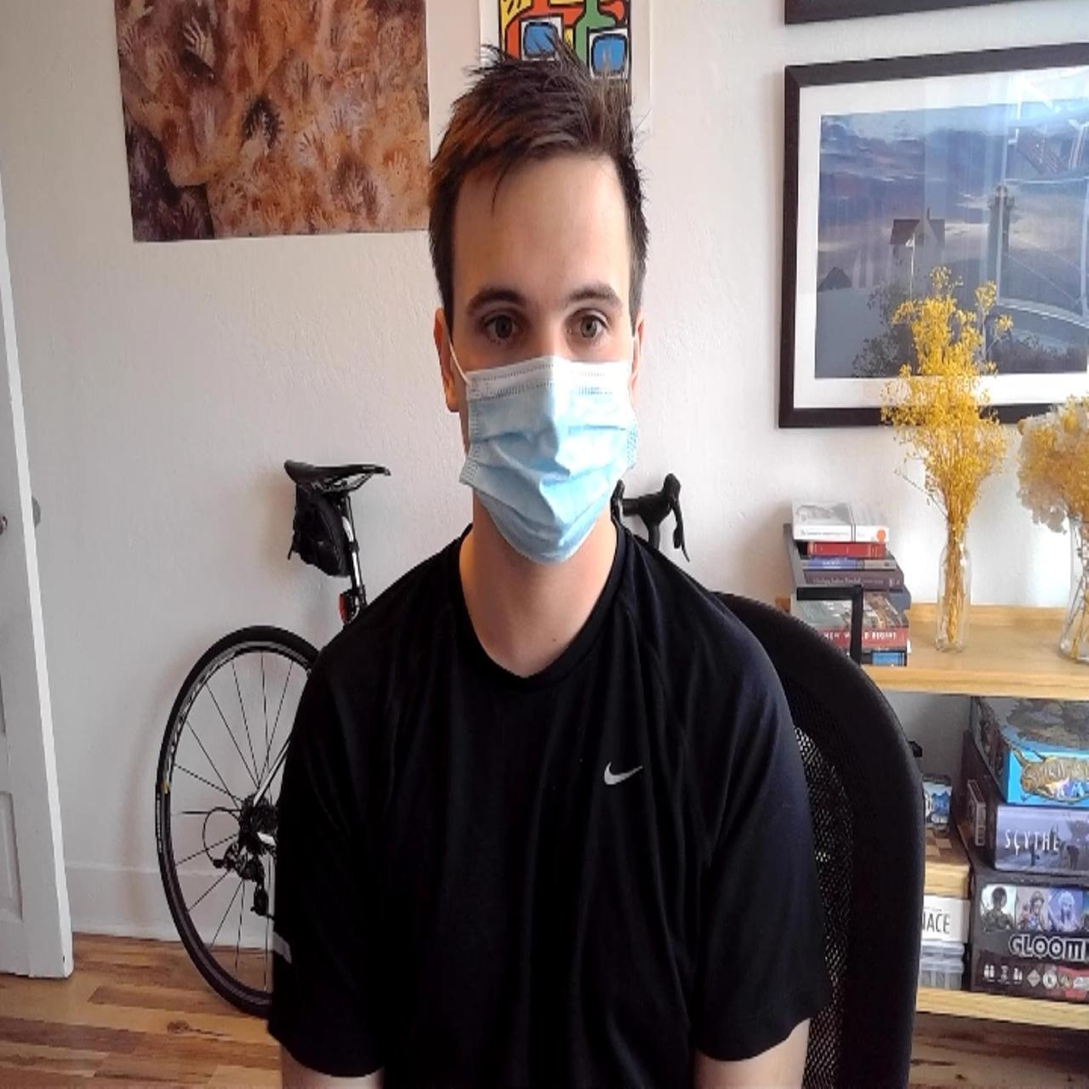NO_Safety_Vest: (319, 533, 729, 1089)
Person: (263, 31, 835, 1089)
